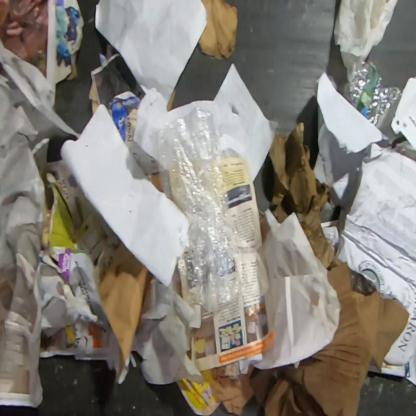cardboard: (250, 121, 411, 415), (96, 242, 151, 384), (198, 0, 238, 62), (212, 362, 256, 416), (175, 368, 222, 415)
rigid_plastic: (347, 59, 403, 126)
soft_plastic: (152, 106, 242, 316)
